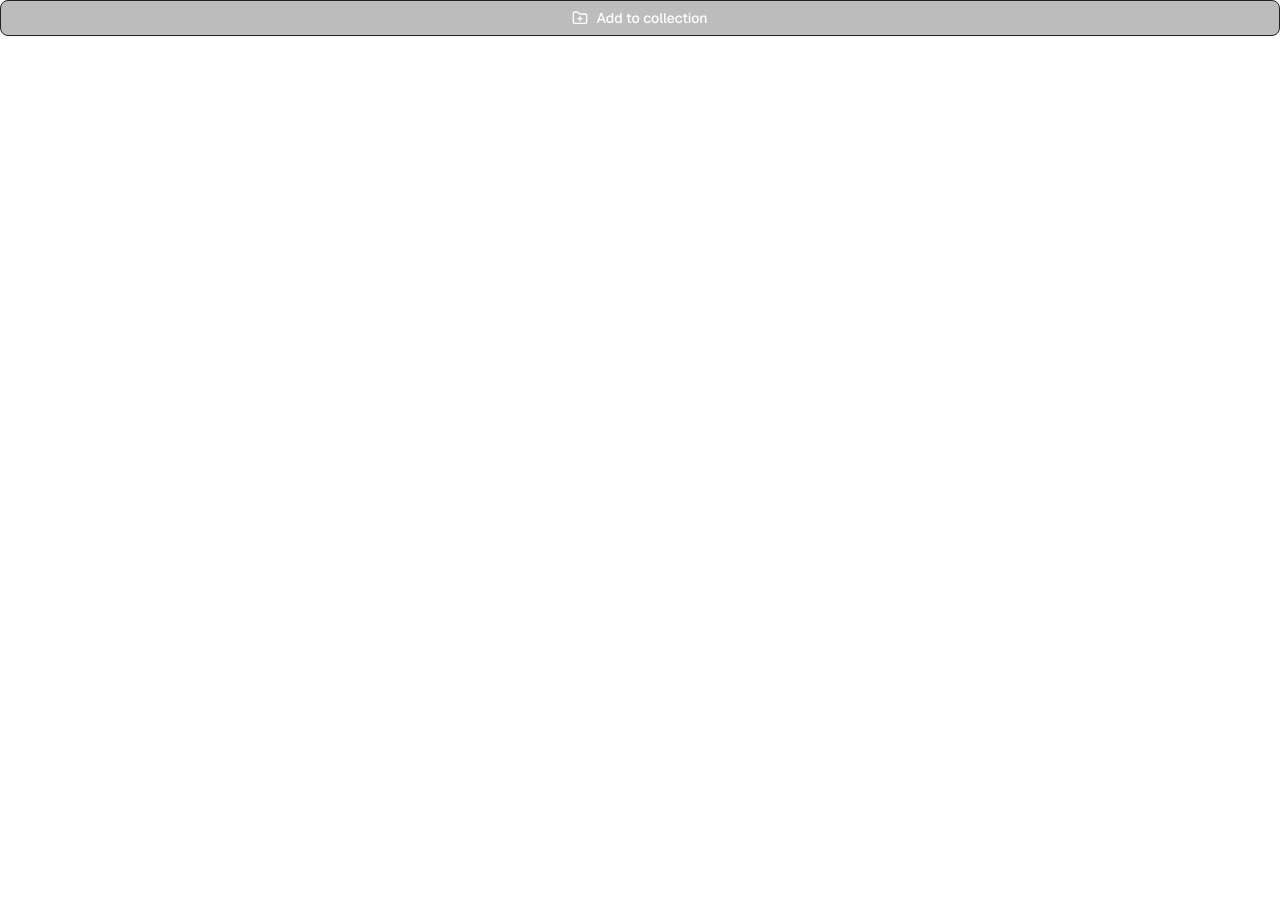
Test: AddToCollectionPopover › closes when Escape is pressed
The image size is (1280, 900).
Later steps or results of the test are not shown.
Click the button "Add to collection" at (640, 18), box [0,0,1279,36]
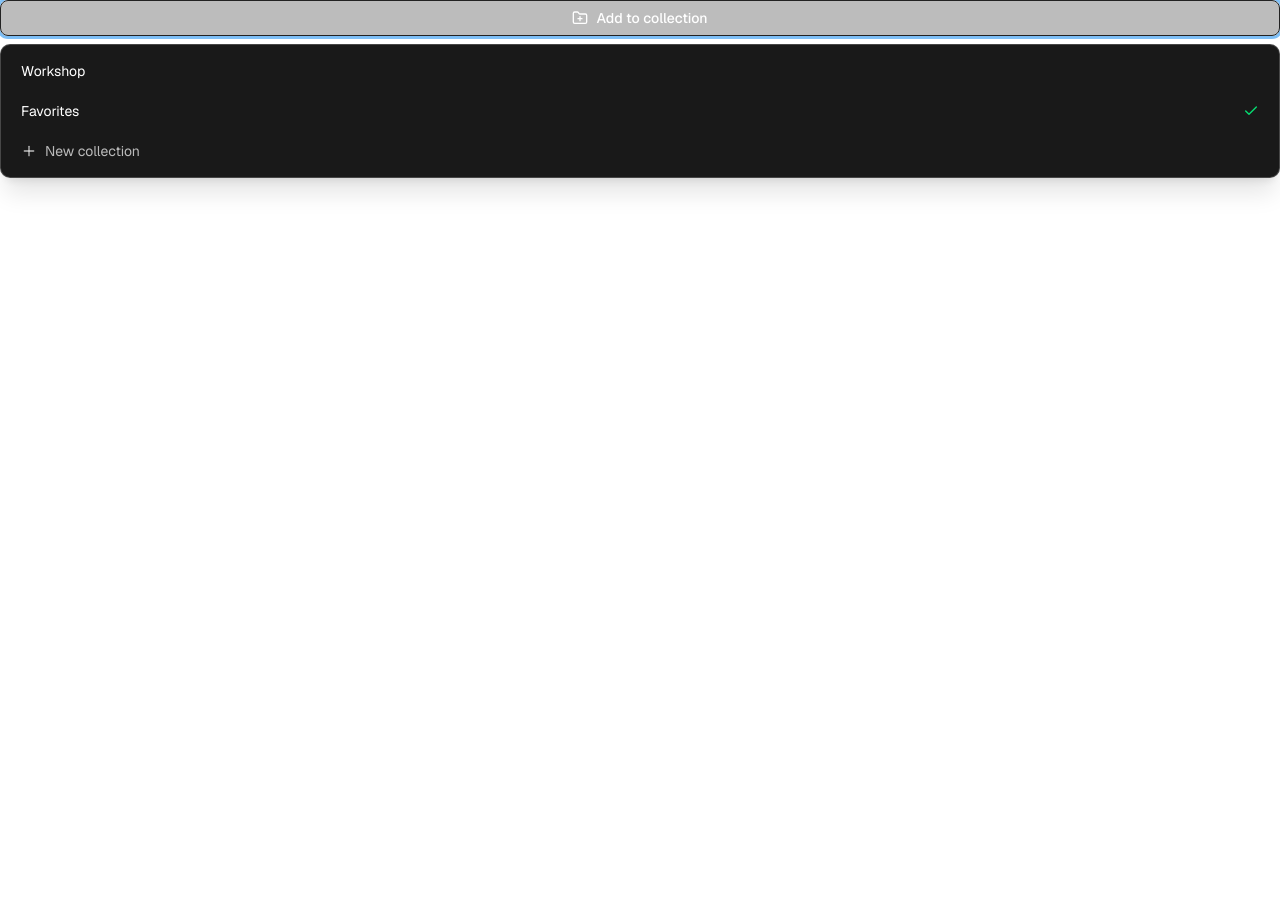
Now the dialog named "add to collection" is shown, box [0,44,1279,178]
